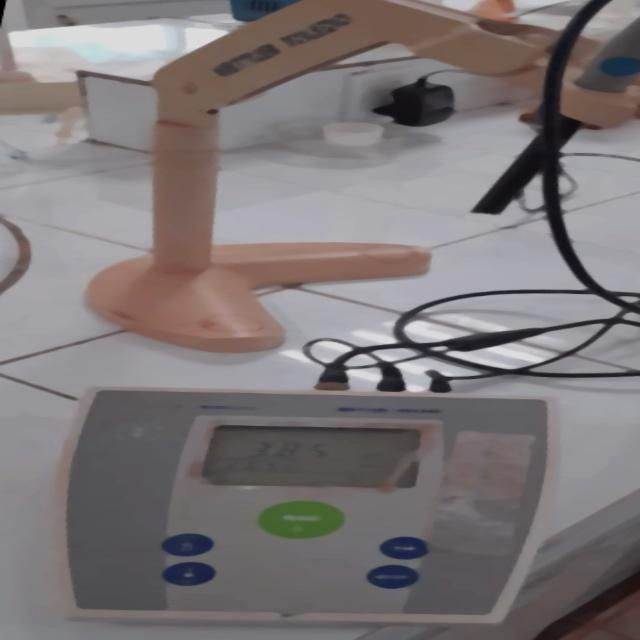PH meter: (41, 378, 598, 634)
